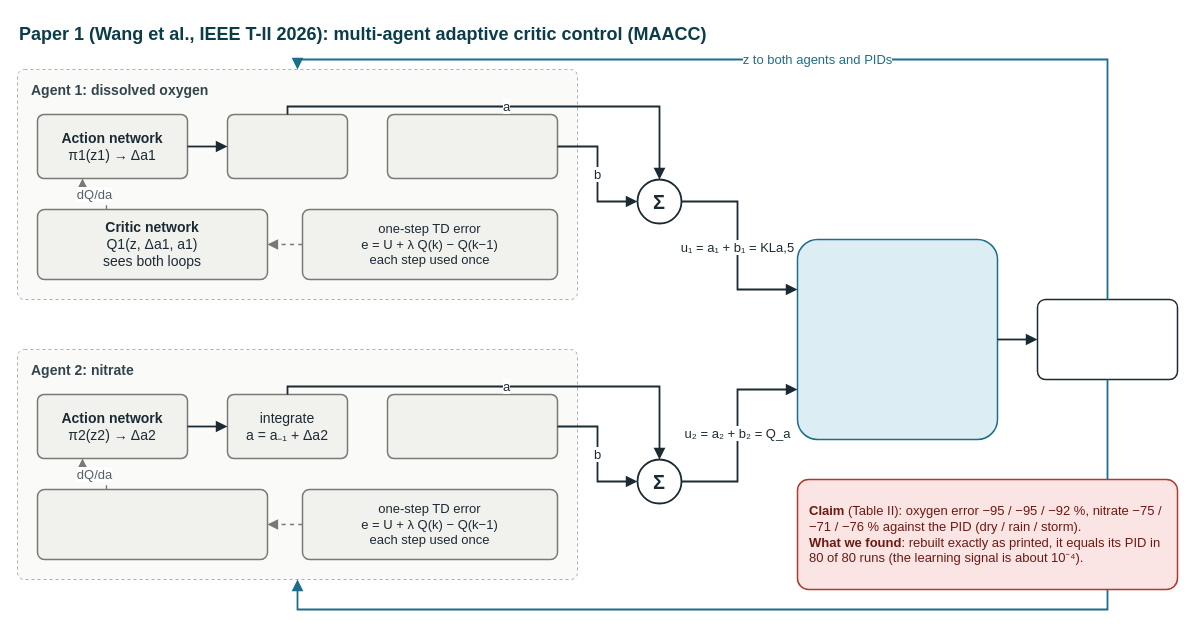
The diagram is 1196 pixels wide and 636 high, and some of its shapes have lost their labels. The shapes that lost their labels are listed below. From the top down, each one's centre as x and y in pixels, then its label:
pixel 287 146: integrate a = a₋₁ + Δa1
pixel 472 146: Expert PID b1 (incremental)
pixel 897 339: BSM1 plant (two coupled subsystems)
pixel 1107 339: measured S_O,5, S_NO,2 z = s − r
pixel 472 426: Expert PID b2 (incremental)
pixel 152 524: Critic network Q2(z, Δa2, a2) sees both loops
